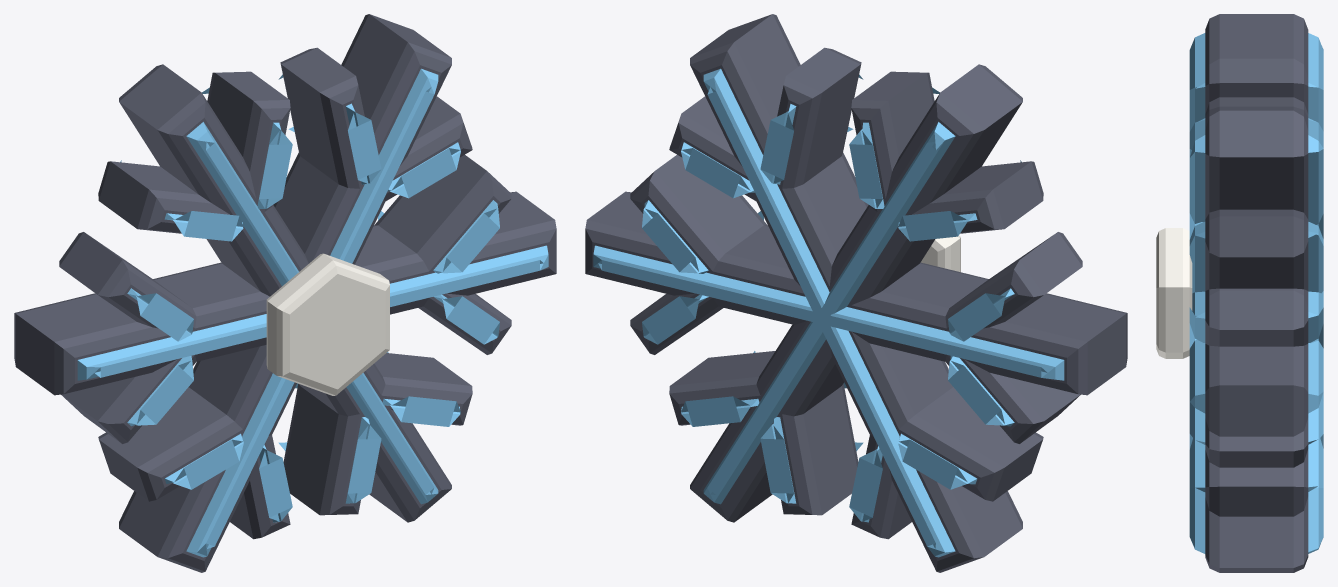
File: game-ui-icon-library-snowflake-0c1e3dd9__18994.glb
The picture shows the model from 3 angles, left to right: view 1: azimuth 30°, elevation 25°; view 2: azimuth 150°, elevation 25°; view 3: azimuth 270°, elevation 25°; orthographic projection. The views are drawn at different scales.
Visible parts, largest first — view 1: snowflake; view 2: snowflake; view 3: snowflake.
Part boxes in pixels (x1=…): snowflake: x1=14, y1=14, x2=556, y2=572; snowflake: x1=585, y1=14, x2=1127, y2=572; snowflake: x1=1156, y1=14, x2=1323, y2=572.
Size of the model in its own units: 0.98 by 0.8986 by 0.2949.
